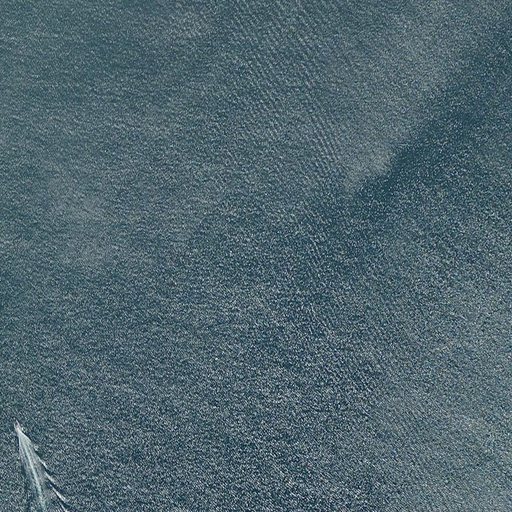ship: (12, 418, 23, 440)
